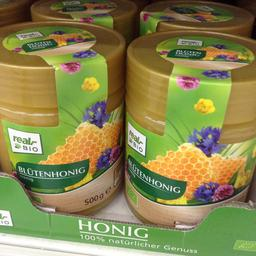honey: (127, 28, 255, 230), (0, 17, 123, 225)
